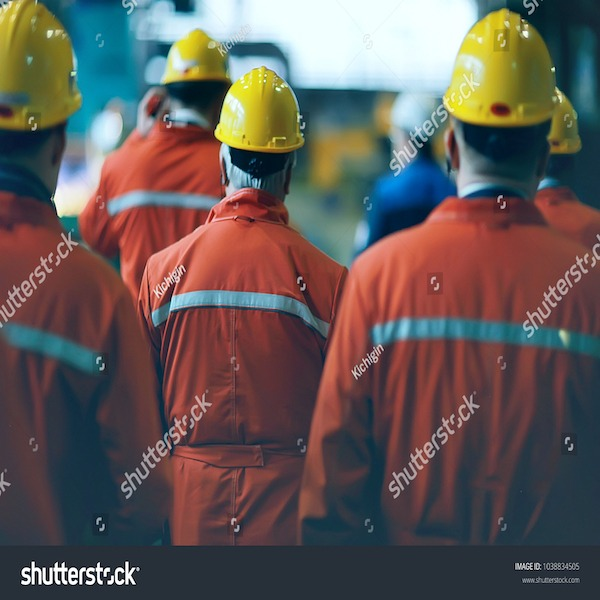helmet: (443, 10, 556, 122), (2, 3, 85, 138), (219, 68, 310, 152), (162, 27, 228, 88)
